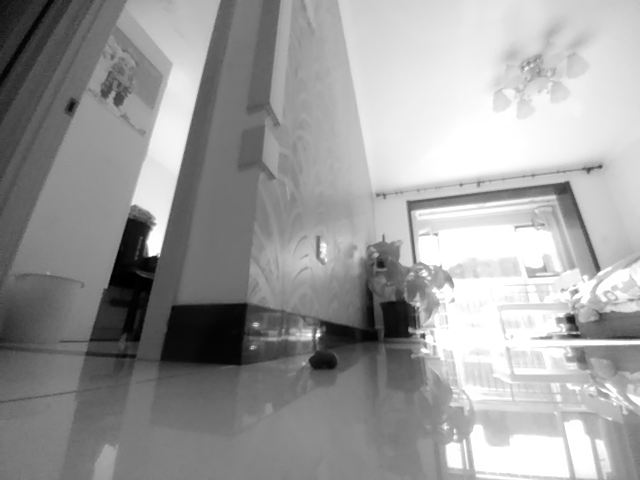pet feces: (308, 350, 340, 370)
